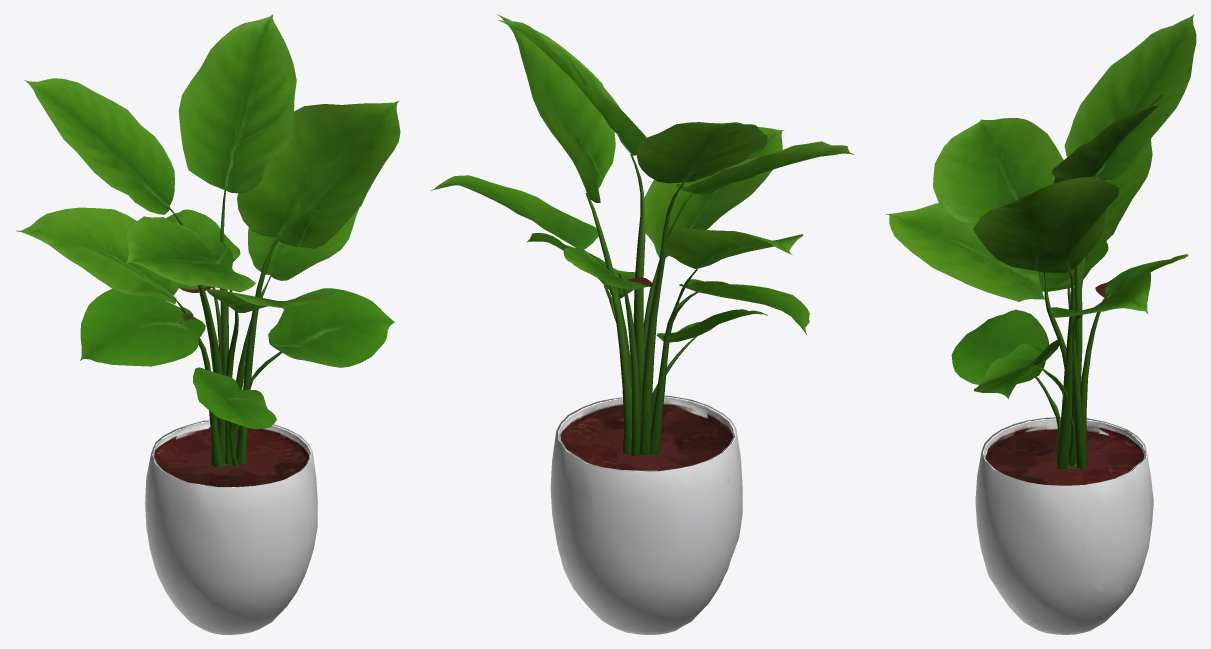
File: floor_plant.glb
3 renders of one model, left to right at view 1: azimuth 30°, elevation 25°; view 2: azimuth 150°, elevation 25°; view 3: azimuth 270°, elevation 25°, orthographic. The views are drawn at different scales.
Size of the model in its own units: 0.5899 by 0.9517 by 0.479.
1 material, 1 textured.
